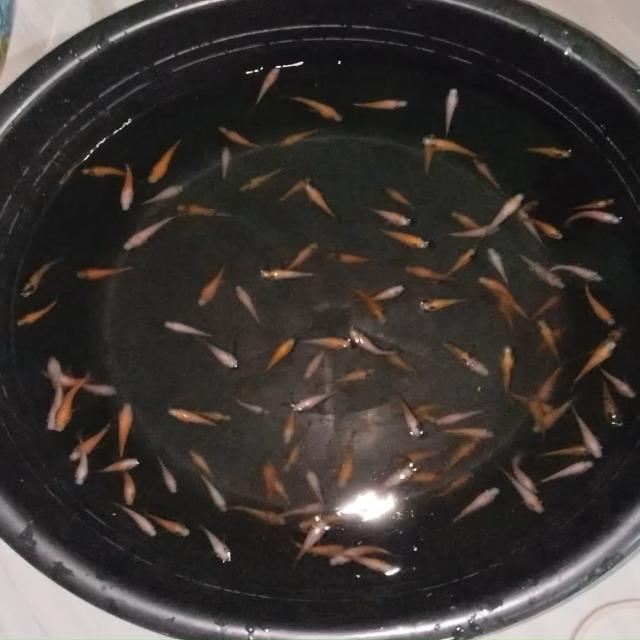nila: (117, 214, 182, 254), (568, 336, 613, 391), (500, 464, 548, 514), (443, 484, 503, 524), (437, 338, 494, 380), (567, 402, 607, 460), (281, 93, 349, 127), (106, 498, 160, 540), (64, 418, 115, 462), (52, 372, 90, 431), (528, 394, 577, 438), (278, 534, 354, 562), (289, 516, 332, 564), (226, 500, 290, 531), (532, 320, 573, 368), (145, 138, 185, 185), (589, 360, 636, 400), (194, 518, 233, 566), (578, 280, 620, 324), (348, 324, 402, 358), (140, 508, 194, 542), (484, 190, 524, 235), (213, 123, 273, 152), (434, 246, 481, 283), (420, 132, 482, 160), (38, 377, 66, 438), (248, 64, 284, 111), (344, 547, 402, 576), (348, 282, 389, 323), (21, 258, 63, 298), (398, 441, 452, 472), (520, 254, 564, 292), (537, 459, 597, 486), (197, 472, 231, 518), (541, 262, 612, 284), (434, 404, 494, 430), (236, 167, 289, 196), (331, 544, 397, 567), (199, 336, 242, 371), (580, 324, 624, 358), (370, 462, 415, 495), (290, 387, 347, 413), (196, 261, 229, 305), (596, 378, 625, 428), (261, 335, 299, 373), (300, 180, 336, 220), (337, 431, 362, 488), (150, 453, 180, 500), (494, 290, 539, 321), (293, 508, 356, 530), (280, 427, 308, 476), (511, 206, 548, 243), (436, 420, 498, 442), (470, 153, 503, 194), (14, 298, 62, 326), (509, 452, 541, 494), (113, 400, 137, 456), (173, 200, 234, 222), (394, 393, 421, 442), (520, 393, 550, 437), (418, 291, 473, 315), (270, 496, 330, 518), (432, 470, 473, 502), (443, 434, 480, 469), (482, 244, 516, 282), (302, 466, 332, 509), (488, 296, 520, 336), (403, 264, 461, 286), (378, 227, 431, 251), (502, 196, 542, 227), (538, 440, 600, 460), (113, 462, 141, 506), (254, 266, 322, 284), (74, 264, 138, 283), (186, 445, 218, 483), (236, 279, 261, 327), (518, 142, 572, 164), (530, 288, 562, 325), (274, 176, 312, 207), (510, 388, 559, 412), (383, 348, 425, 376), (286, 240, 322, 272), (74, 376, 124, 399), (166, 407, 218, 429), (301, 344, 329, 384), (142, 181, 188, 205), (364, 205, 412, 228), (41, 366, 91, 388), (538, 364, 566, 403), (348, 96, 416, 112), (524, 213, 564, 240), (160, 320, 214, 340), (72, 428, 90, 488), (229, 394, 273, 418), (259, 456, 279, 508), (362, 282, 404, 306), (474, 274, 514, 299), (564, 208, 626, 224), (498, 344, 514, 406), (532, 325, 564, 356), (93, 458, 140, 478), (278, 126, 320, 148), (440, 340, 475, 366), (401, 404, 442, 426), (333, 364, 378, 384), (404, 398, 454, 416), (565, 197, 617, 214), (279, 404, 300, 446), (444, 86, 460, 138), (120, 161, 136, 213), (272, 478, 298, 510), (187, 408, 238, 424), (78, 165, 136, 179), (46, 356, 66, 396), (323, 250, 378, 264), (385, 186, 415, 211), (422, 132, 439, 176), (448, 210, 480, 232), (448, 225, 498, 239), (298, 336, 353, 348), (218, 146, 235, 180), (404, 471, 446, 484)
